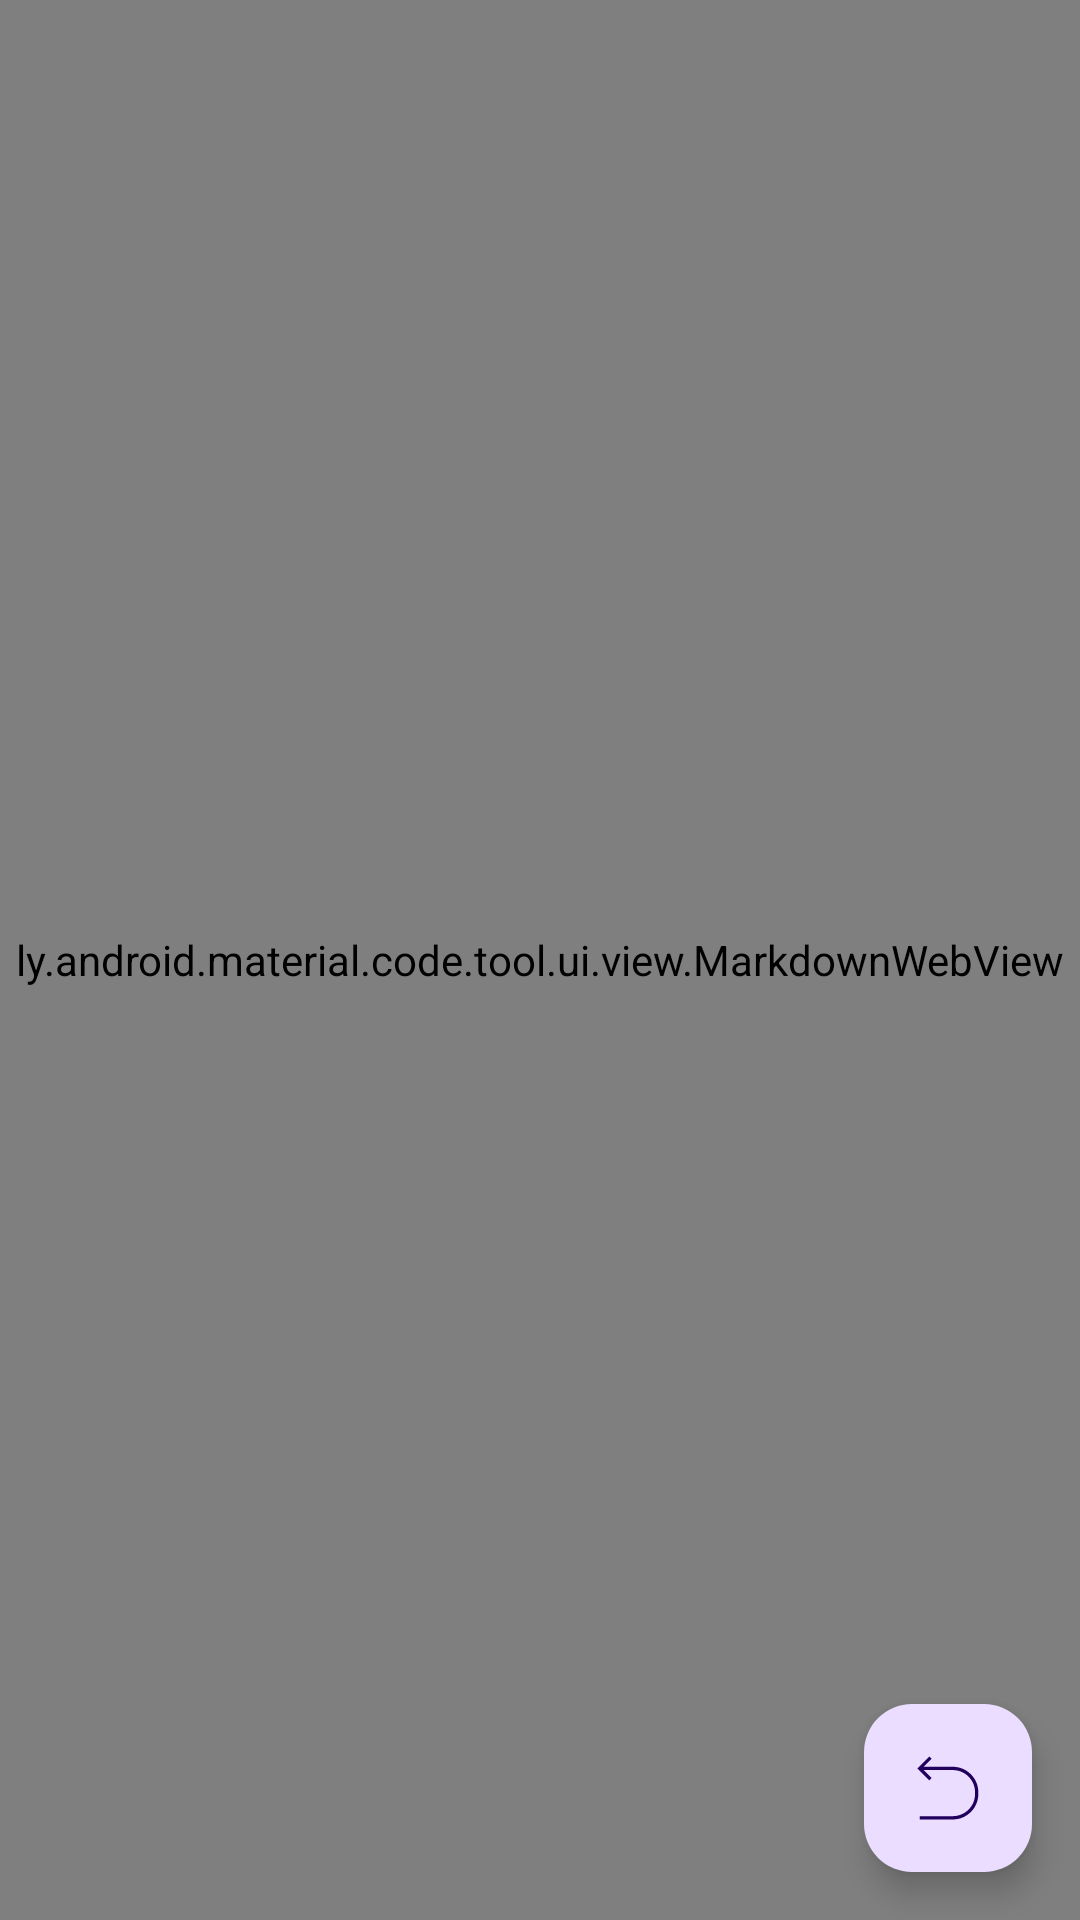

Icon click points for this 1080x1920 phone screenshot, format point (x, y):
goback: point (948, 1788)
